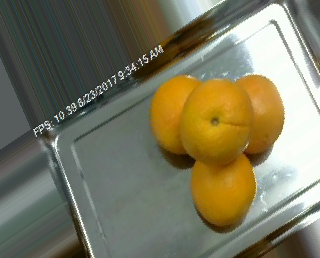Orange: (180, 78, 254, 165), (191, 154, 257, 226), (150, 74, 207, 155), (229, 74, 285, 154)
